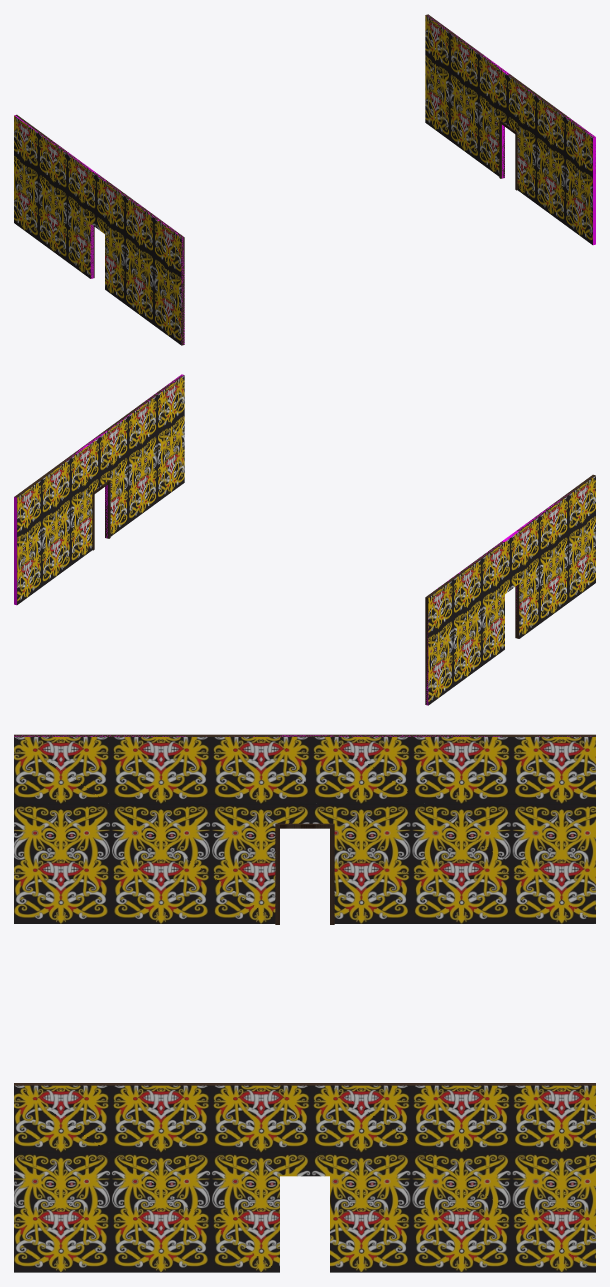
Rendered from dinding_dalam.glb.
The picture shows the model from 3 angles, top to bottom: view 1: azimuth 30°, elevation 25°; view 2: azimuth 150°, elevation 25°; view 3: azimuth 270°, elevation 25°; orthographic projection. The views are drawn at different scales.
Parts seen in each view (by area): view 1: dinding_dalam_kiri_motif_dalam_neg, dinding_dalam_kanan_motif_dalam_neg, dinding_dalam_kiri, dinding_dalam_kanan; view 2: dinding_dalam_kiri_motif_dalam_neg, dinding_dalam_kanan_motif_dalam_neg, dinding_dalam_kiri, dinding_dalam_kanan; view 3: dinding_dalam_kanan_motif_dalam_pos, dinding_dalam_kiri_motif_dalam_pos, dinding_dalam_kiri, dinding_dalam_kanan, dinding_dalam_kiri_kusen.
Boxes of the visible parts, x1,y1,x2,y2 form: dinding_dalam_kiri_motif_dalam_neg: (14,115,181,345); dinding_dalam_kanan_motif_dalam_neg: (425,15,592,244); dinding_dalam_kiri: (15,114,184,345); dinding_dalam_kanan: (425,14,594,244); dinding_dalam_kiri_motif_dalam_neg: (428,475,595,705); dinding_dalam_kanan_motif_dalam_neg: (17,375,184,604); dinding_dalam_kiri: (425,474,595,704); dinding_dalam_kanan: (14,374,184,604); dinding_dalam_kanan_motif_dalam_pos: (14,1085,595,1272); dinding_dalam_kiri_motif_dalam_pos: (14,737,595,923); dinding_dalam_kiri: (14,734,595,736); dinding_dalam_kanan: (14,1083,595,1085); dinding_dalam_kiri_kusen: (275,823,334,924).
Size of the model in its own units: 14.11 by 3.5 by 9.88.
Materials: 3 (2 with a texture image).
